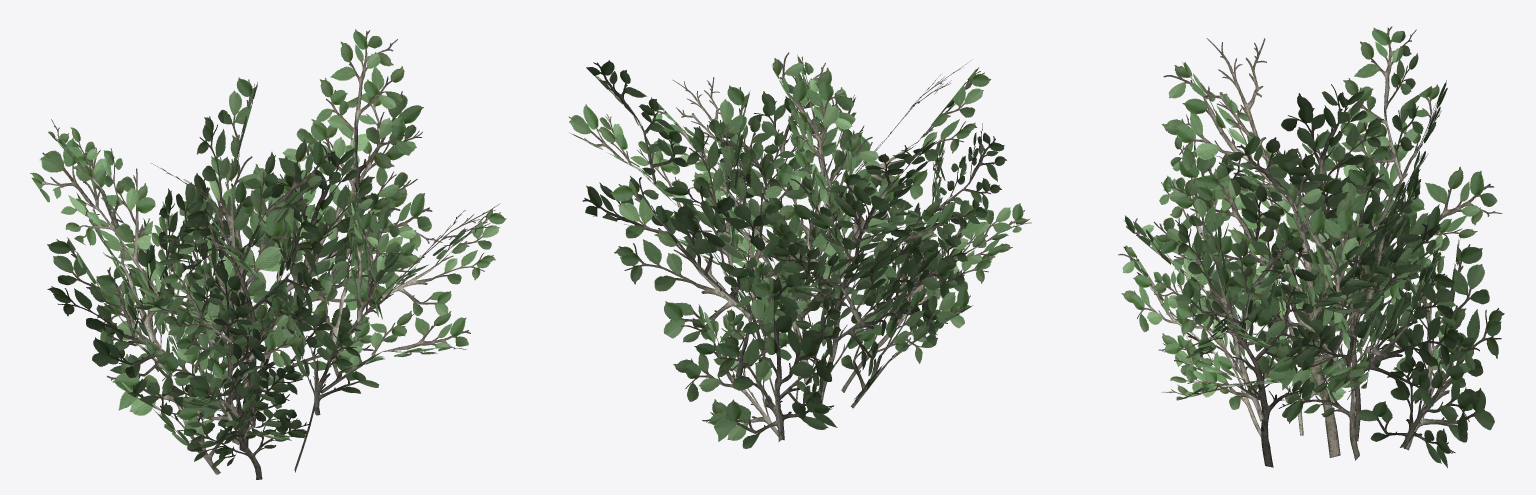
File: Bush - Bush4-BGX18Ctn.glb
3 views of the same model, side by side, from view 1: azimuth 30°, elevation 25°; view 2: azimuth 150°, elevation 25°; view 3: azimuth 270°, elevation 25° (orthographic). The views are drawn at different scales.
Visible parts, largest first — view 1: Bush4_LOD0; view 2: Bush4_LOD0; view 3: Bush4_LOD0.
Boxes of the visible parts, x1,y1,x2,y2 form: Bush4_LOD0: (30, 29, 506, 479); Bush4_LOD0: (568, 52, 1031, 448); Bush4_LOD0: (1118, 26, 1504, 467).
Size of the model in its own units: 2.34 by 2.32 by 2.07.
Materials: 1 (1 with a texture image).
